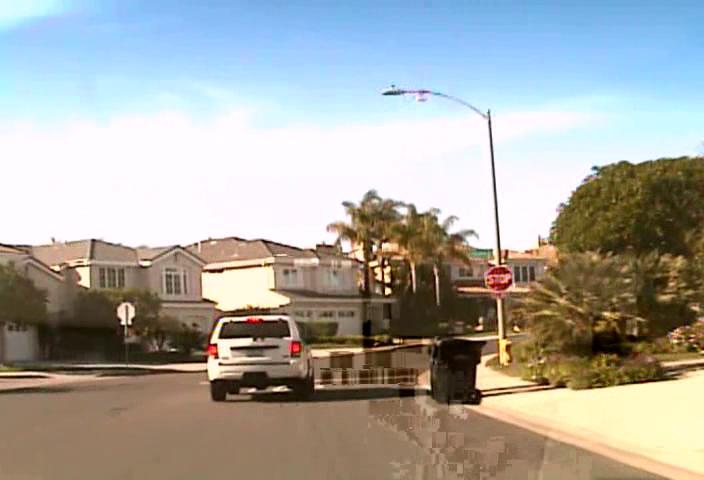stop: (484, 265, 513, 291)
